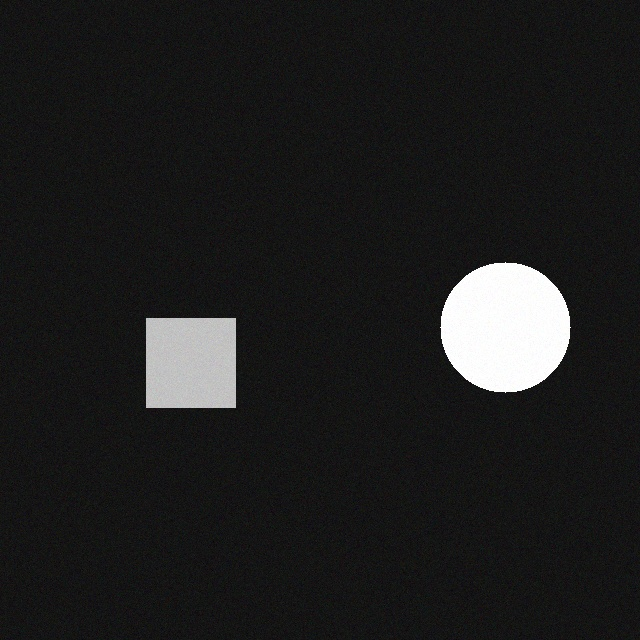circle: (431, 251, 561, 381)
square: (137, 307, 226, 396)
